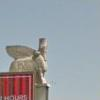Statue: (9, 33, 62, 78)
